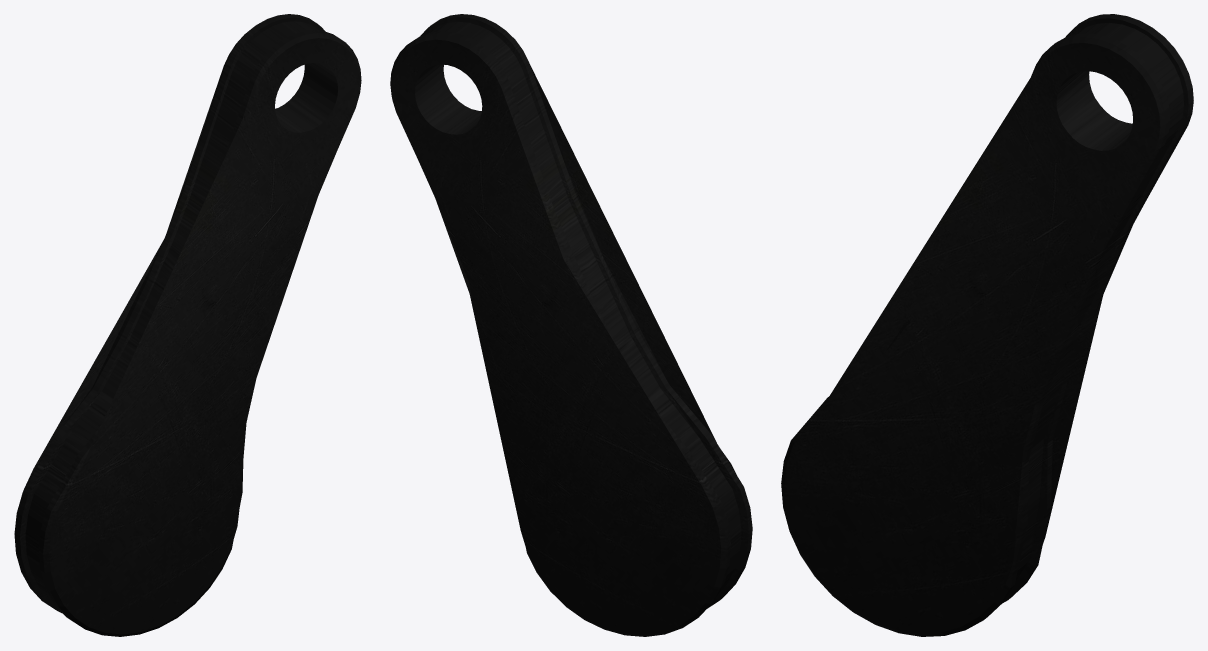
The model's file is conRod2.obj.
3 views of the same model, side by side, from view 1: azimuth 30°, elevation 25°; view 2: azimuth 150°, elevation 25°; view 3: azimuth 330°, elevation 25° (orthographic). The views are drawn at different scales.
Visible parts, largest first — view 1: conRod2_Connecting_Rod_Circle.001; view 2: conRod2_Connecting_Rod_Circle.001; view 3: conRod2_Connecting_Rod_Circle.001.
Boxes of the visible parts, x1,y1,x2,y2 form: conRod2_Connecting_Rod_Circle.001: [14, 14, 361, 636]; conRod2_Connecting_Rod_Circle.001: [390, 14, 752, 636]; conRod2_Connecting_Rod_Circle.001: [781, 14, 1193, 636].
Bounding box in the file's own units: 3.35 × 5.42 × 0.6857.
Materials: 1 (1 with a texture image).
